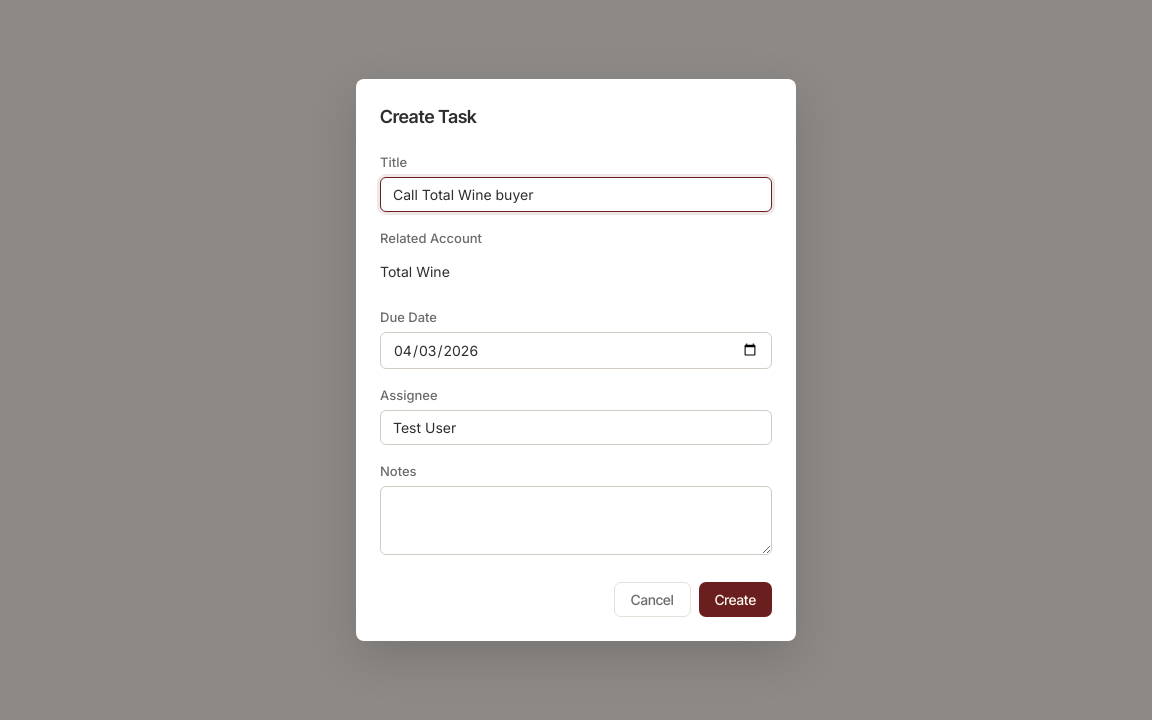
it: CreateTaskModal › shows error on failed createTask
The width and height of the screenshot is (1152, 720).
Step 1. Click the button "Create" → (735, 599), box [699,582,772,617]
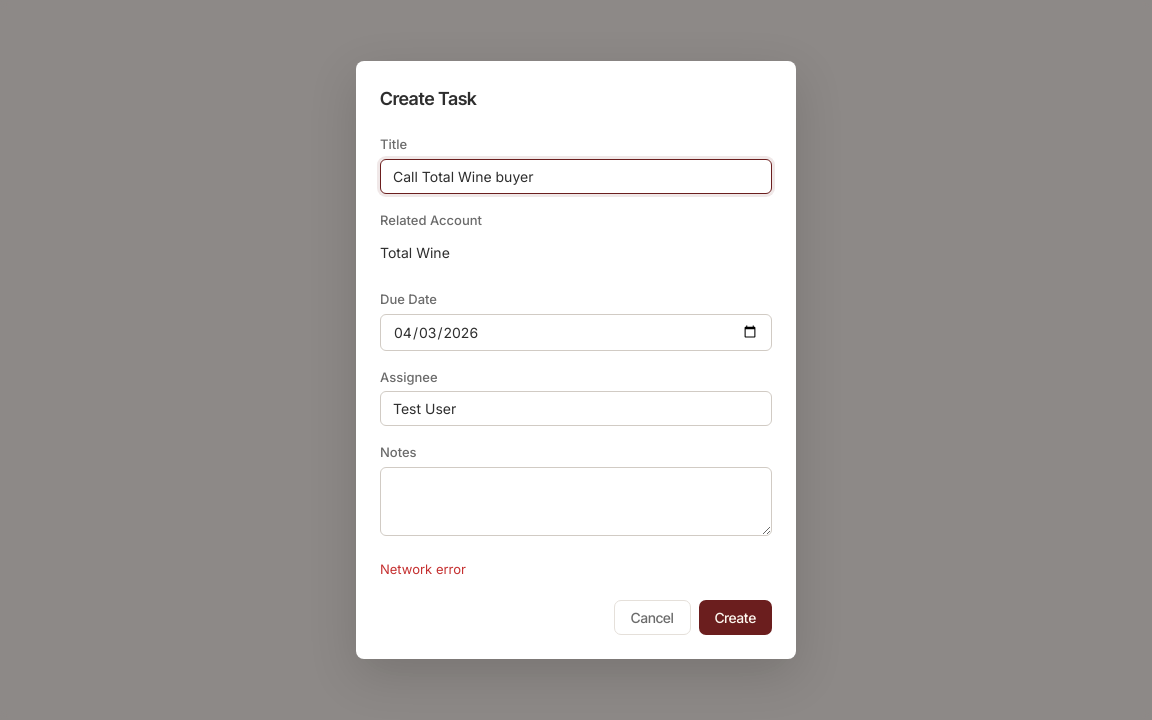
expect the text "Network error" is shown: met, box [380,561,466,577]
